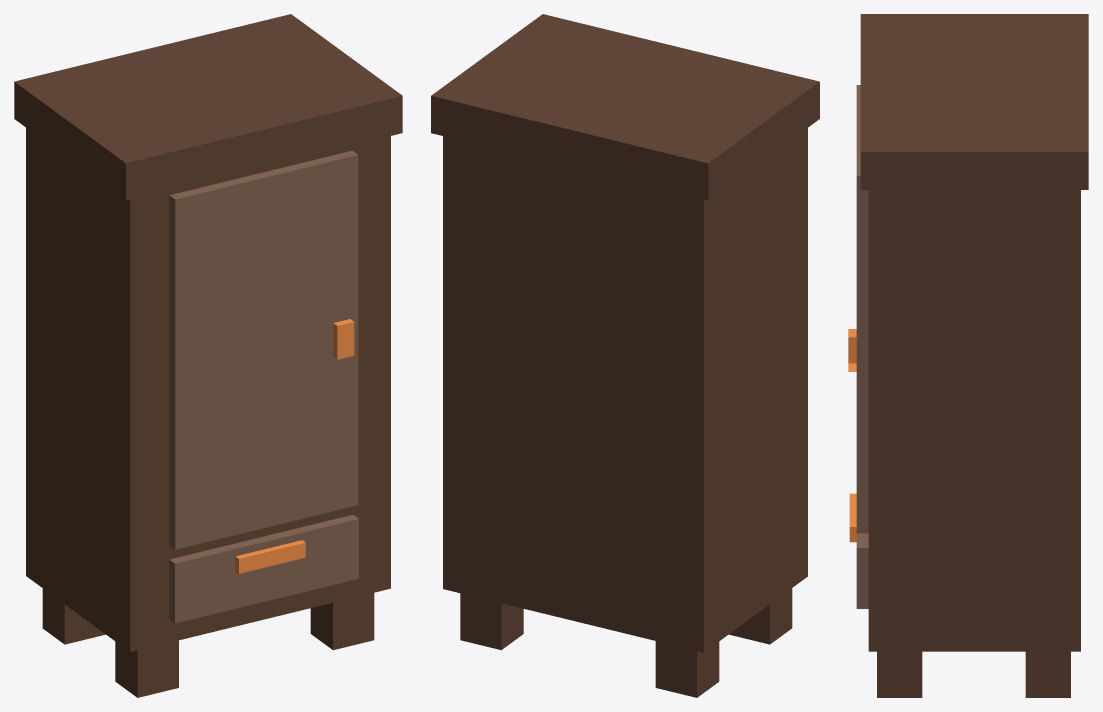
Rendered from Wardrobe 02.FBX.
3 views of the same model, side by side, from view 1: azimuth 30°, elevation 25°; view 2: azimuth 150°, elevation 25°; view 3: azimuth 270°, elevation 25° (orthographic). The views are drawn at different scales.
Parts seen in each view (by area): view 1: Wardrobe 02; view 2: Wardrobe 02; view 3: Wardrobe 02.
Part boxes in pixels (<box>): Wardrobe 02: <box>14,14,402,697</box>; Wardrobe 02: <box>431,14,819,697</box>; Wardrobe 02: <box>848,14,1088,697</box>.
Bounding box in the file's own units: 94.45 × 178 × 69.58.
